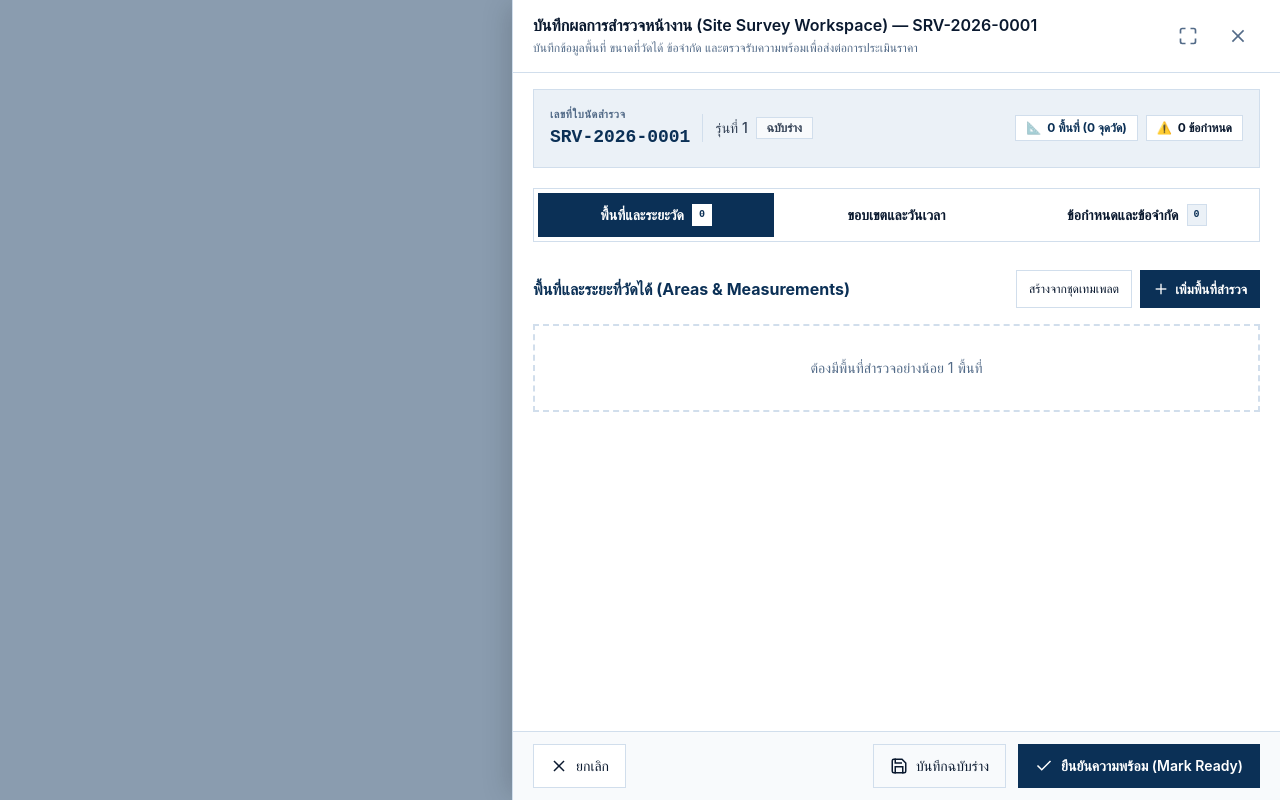
Survey Components › SurveyWorkspaceDrawer › auto-fills area name when standard room preset is selected
Note: Add new area
Click the button "เพิ่มพื้นที่สำรวจ" at (1200, 288), box top-left (1140, 270), bottom-right (1260, 308)
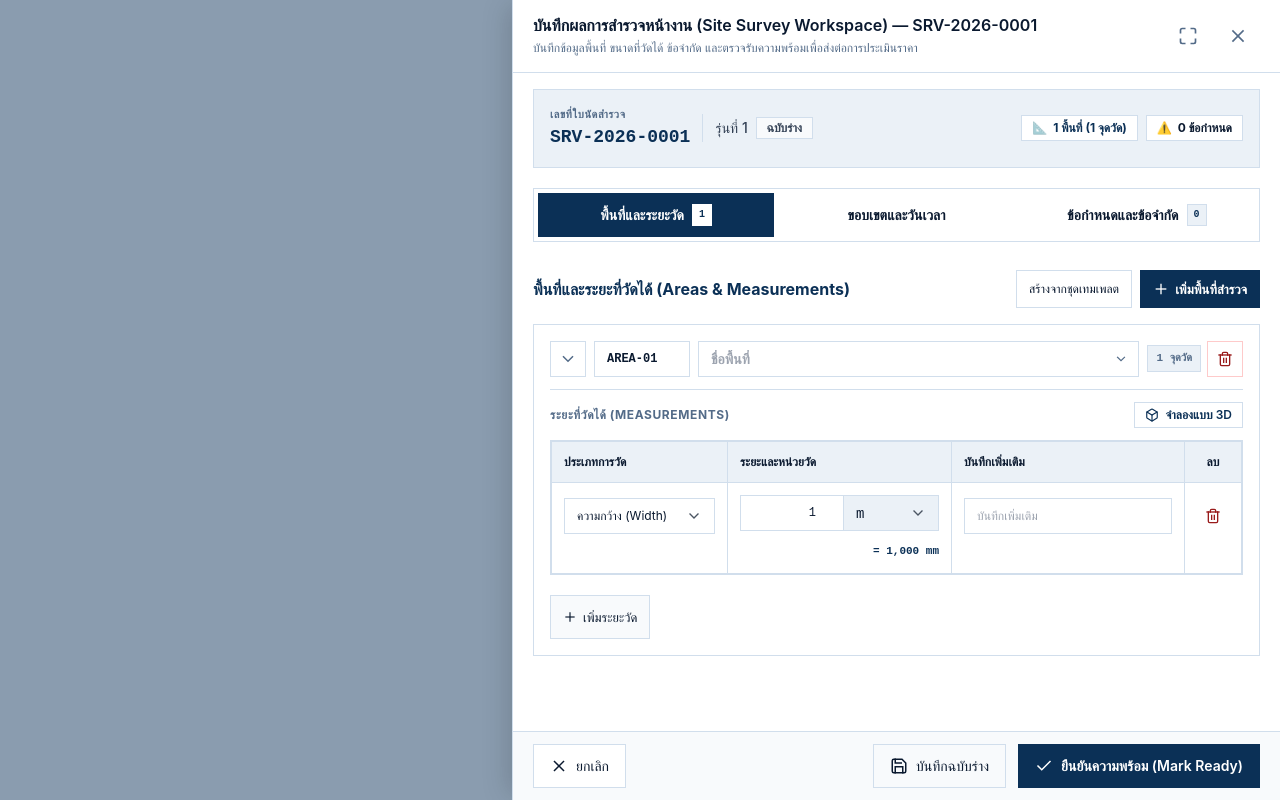
Note: Focus on area name input to show preset suggestions
Focus the dropdown with placeholder "ชื่อพื้นที่" at (919, 358), box top-left (698, 340), bottom-right (1140, 376)
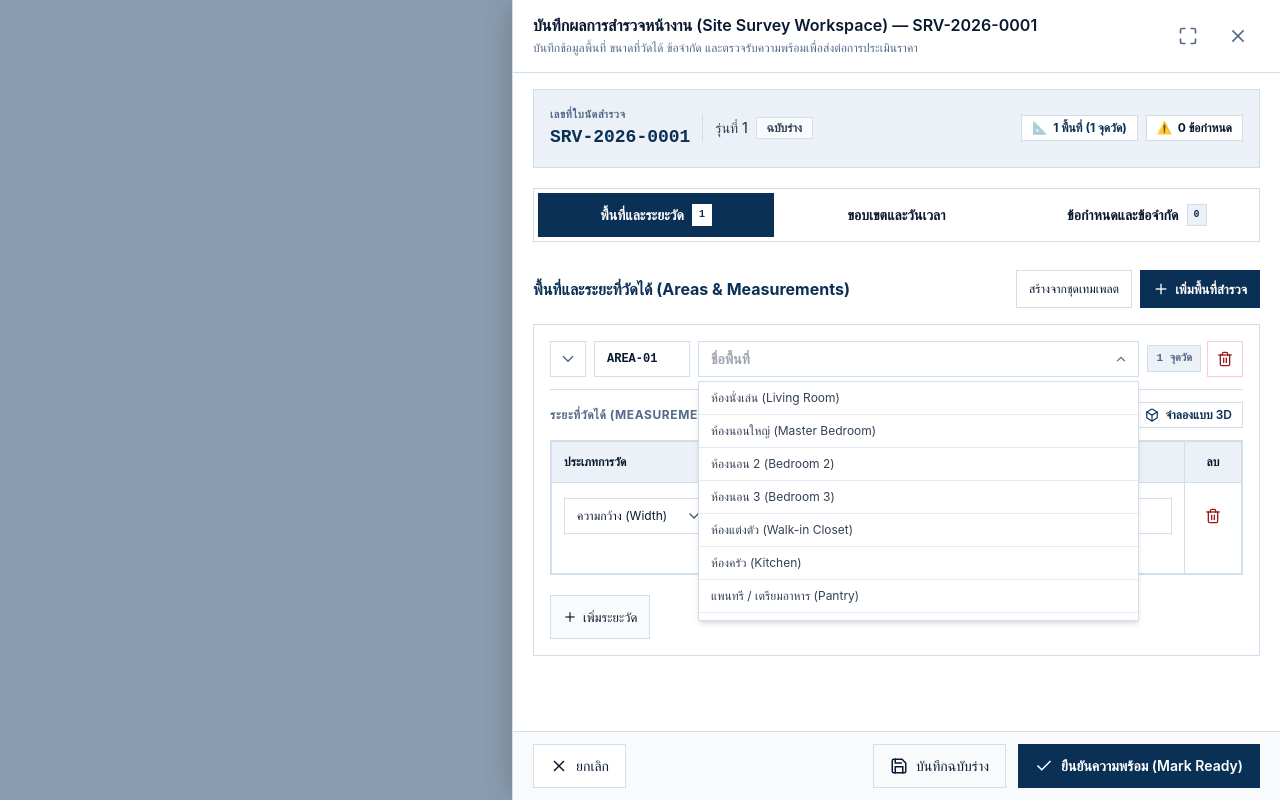
Note: Select preset suggestion from listbox
Click the option "ห้องนอนใหญ่ (Master Bedroom)" at (794, 430), box top-left (699, 414), bottom-right (1138, 446)
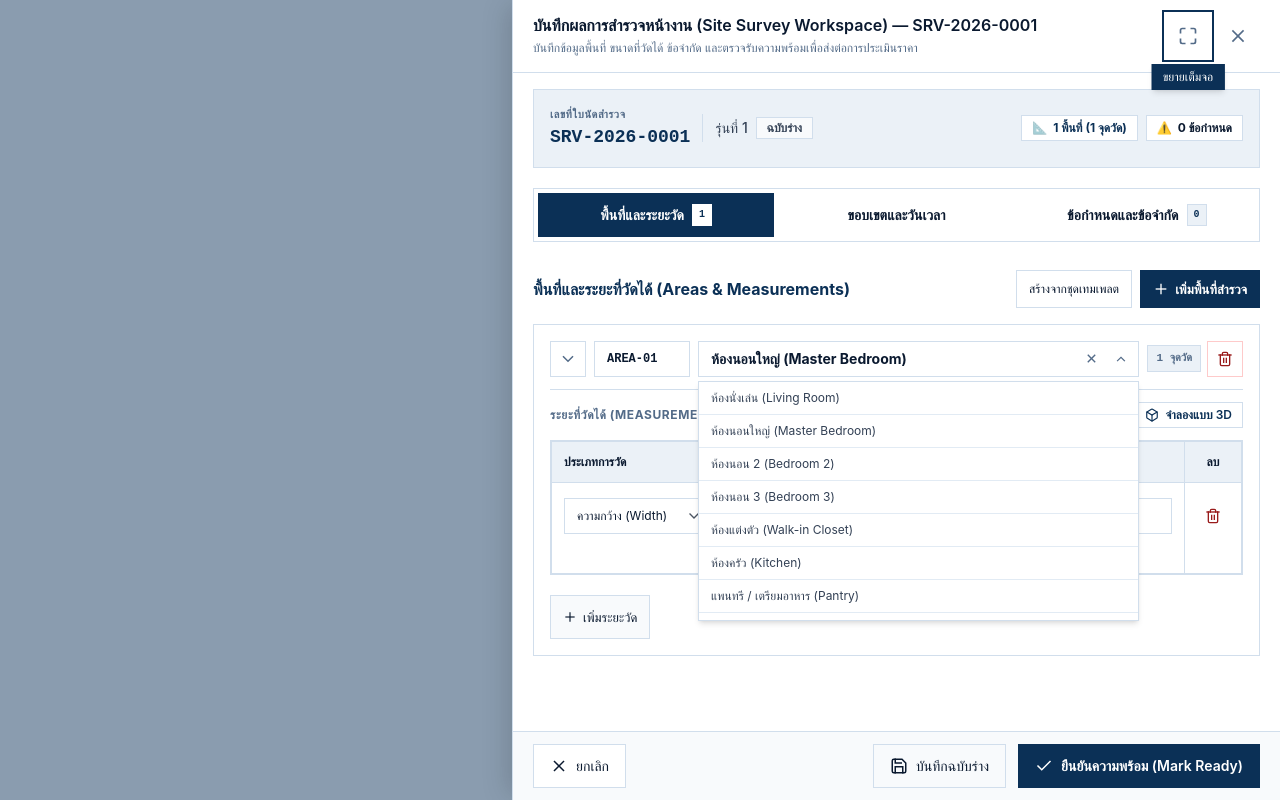
Expected: the dropdown with placeholder "ชื่อพื้นที่" holds "ห้องนอนใหญ่ (Master Bedroom)", top-left (698, 340), bottom-right (1140, 376)
